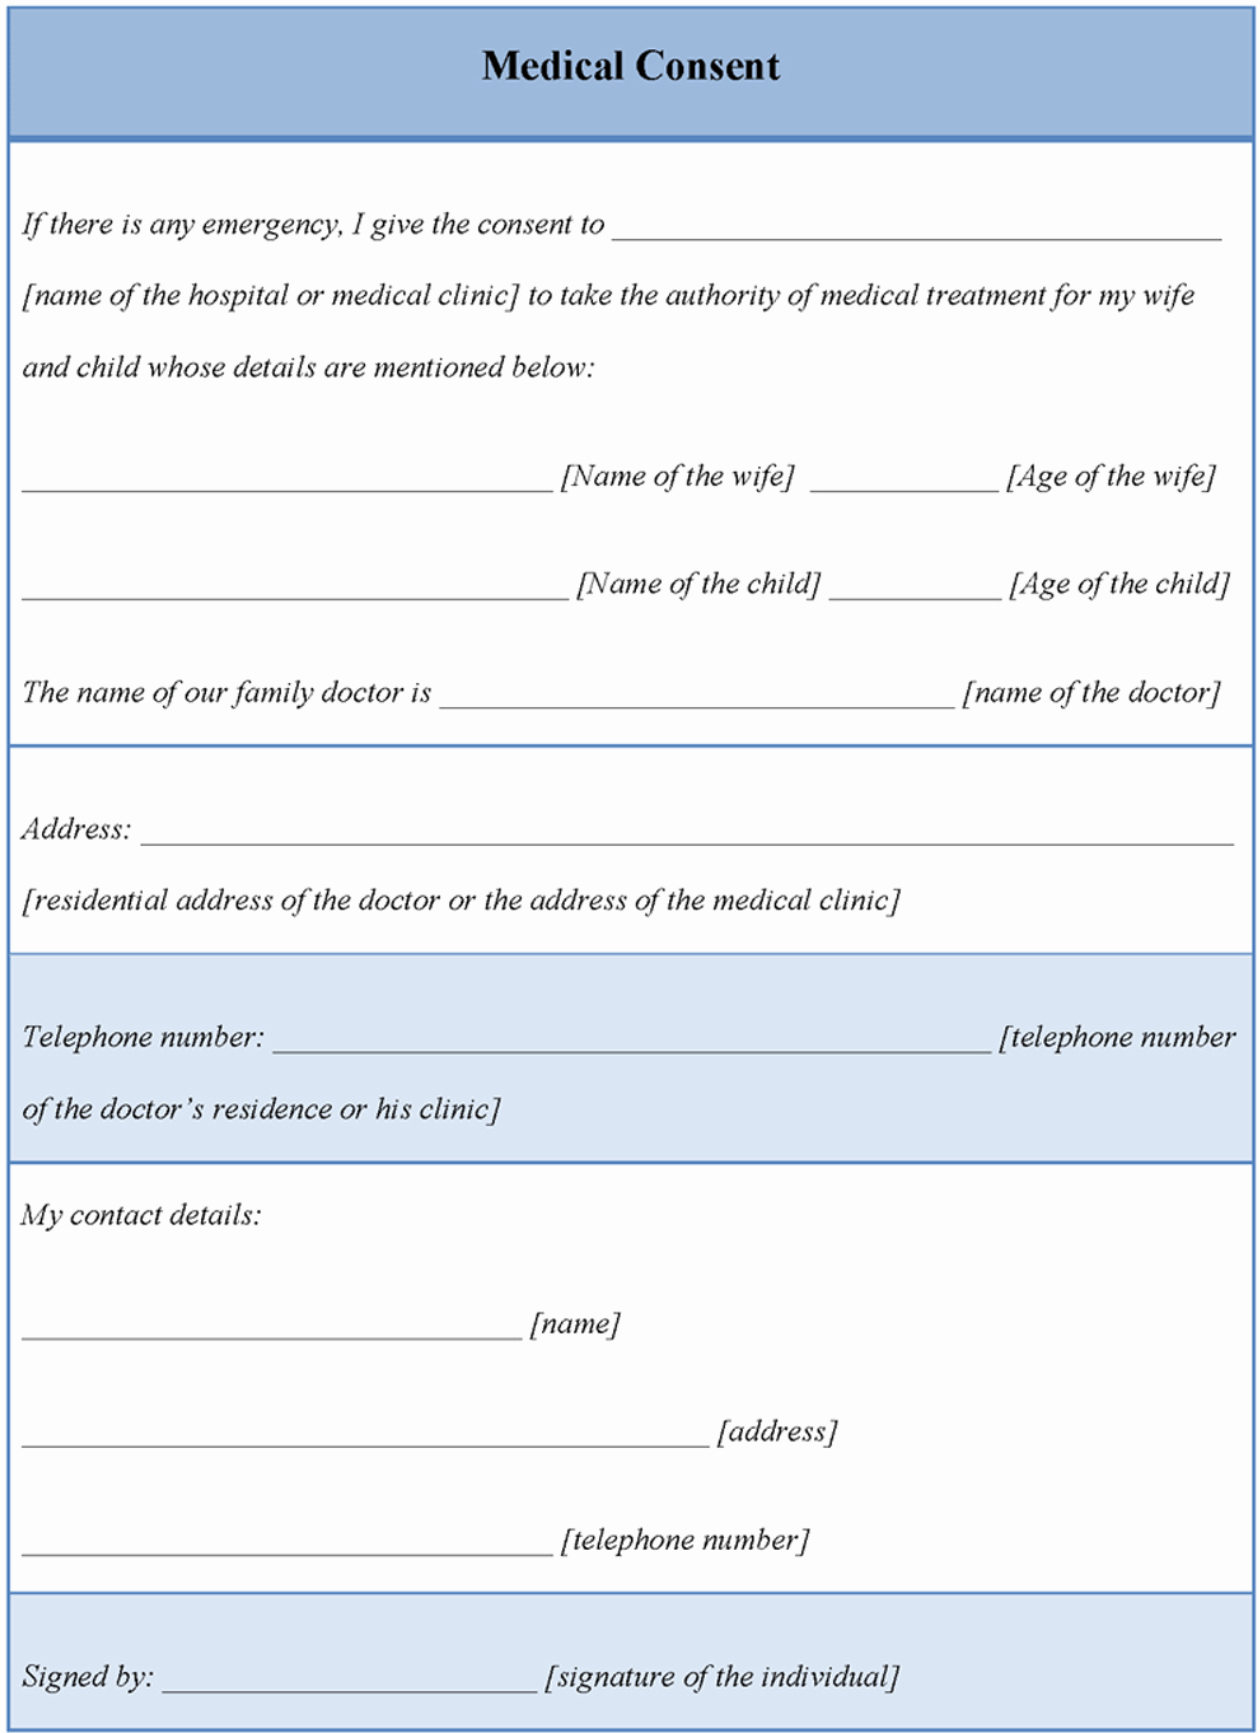textline: (135, 791, 1242, 852), (11, 1394, 716, 1461), (261, 1004, 1002, 1066), (599, 192, 1238, 258), (9, 1511, 565, 1574), (13, 554, 580, 615), (13, 439, 564, 498), (9, 1290, 534, 1350), (428, 661, 967, 717), (149, 1646, 551, 1703), (821, 557, 1006, 614), (798, 448, 1007, 496)
